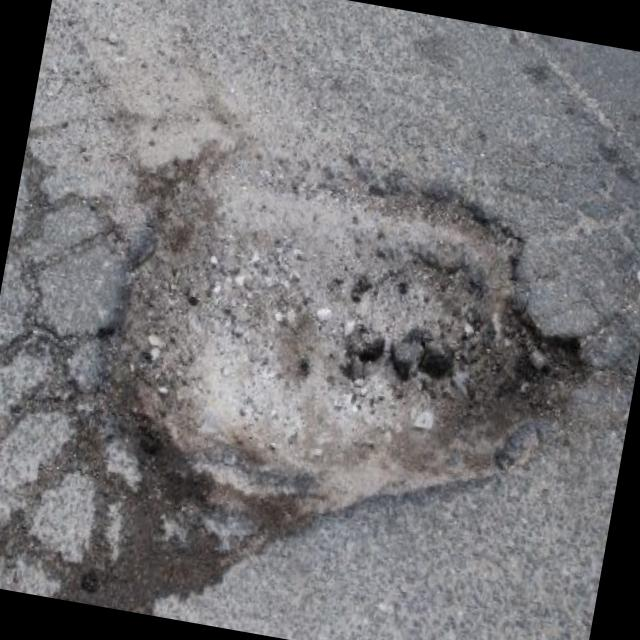Potholes: (30, 99, 640, 601)
